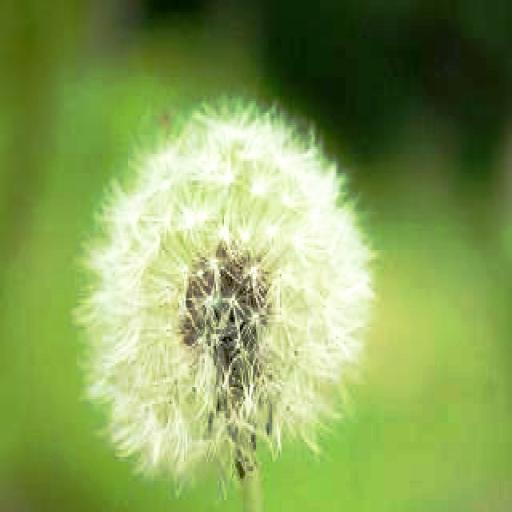dandelion: (74, 94, 374, 490)
